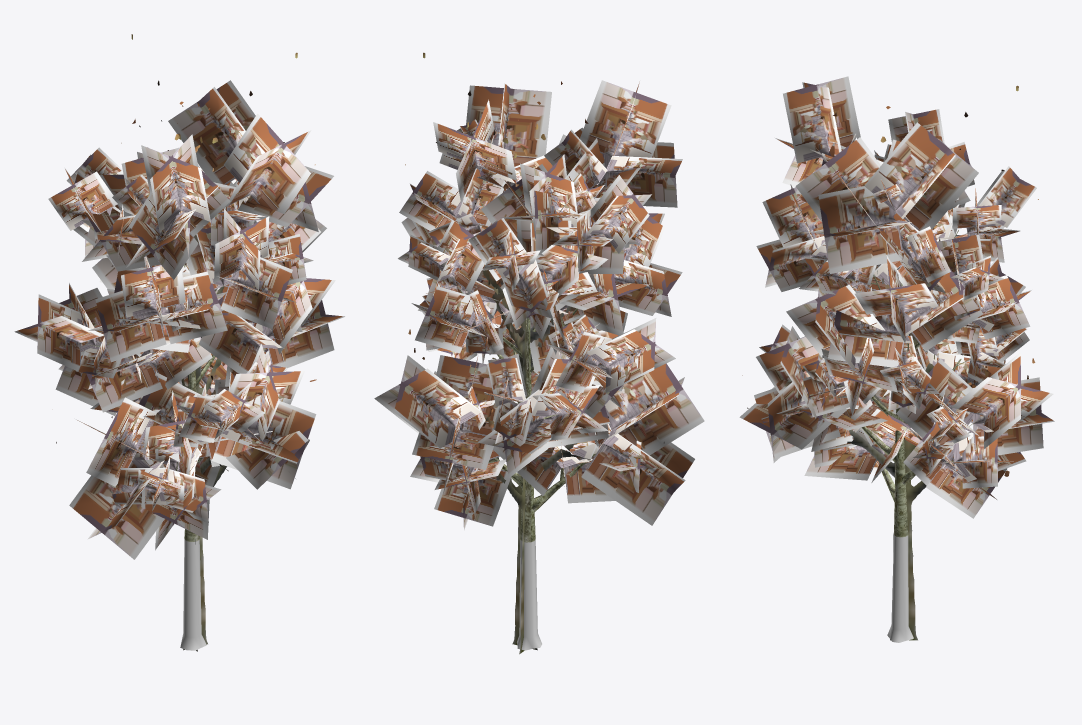
Rendered from Tree-Beech2D-mobile.fbx.
The picture shows the model from 3 angles, left to right: view 1: azimuth 30°, elevation 25°; view 2: azimuth 150°, elevation 25°; view 3: azimuth 270°, elevation 25°; orthographic projection. The views are drawn at different scales.
Visible parts, largest first — view 1: Tree-Beech2D-mobile_LOD0, Billboard-BeechD; view 2: Tree-Beech2D-mobile_LOD0, Billboard-BeechD; view 3: Tree-Beech2D-mobile_LOD0, Billboard-BeechD.
Boxes of the visible parts, bbox=[...] form: Tree-Beech2D-mobile_LOD0: bbox=[14, 80, 344, 650]; Billboard-BeechD: bbox=[56, 34, 316, 651]; Tree-Beech2D-mobile_LOD0: bbox=[374, 80, 704, 650]; Billboard-BeechD: bbox=[405, 52, 668, 654]; Tree-Beech2D-mobile_LOD0: bbox=[739, 76, 1054, 642]; Billboard-BeechD: bbox=[742, 85, 1038, 640].
Size of what is drawn, in the model's own units: 1712 by 3101 by 1694.
